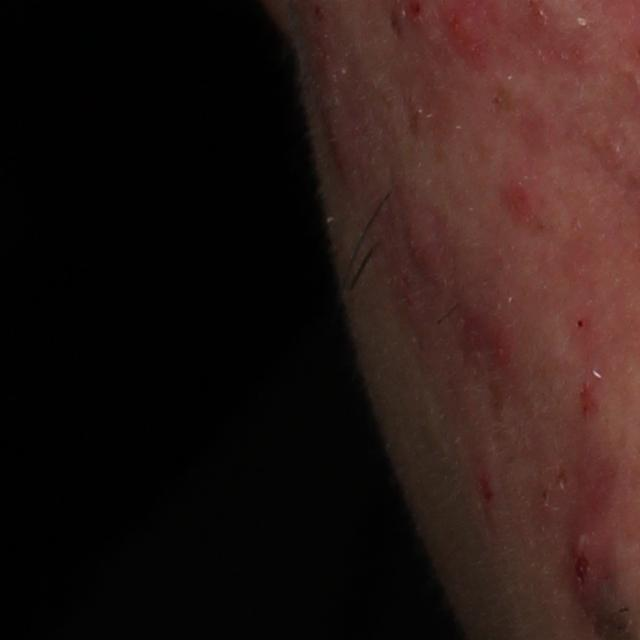papule: (395, 208, 451, 284), (564, 520, 610, 612), (443, 1, 501, 66), (466, 312, 517, 370), (494, 174, 540, 229), (576, 378, 602, 417)
